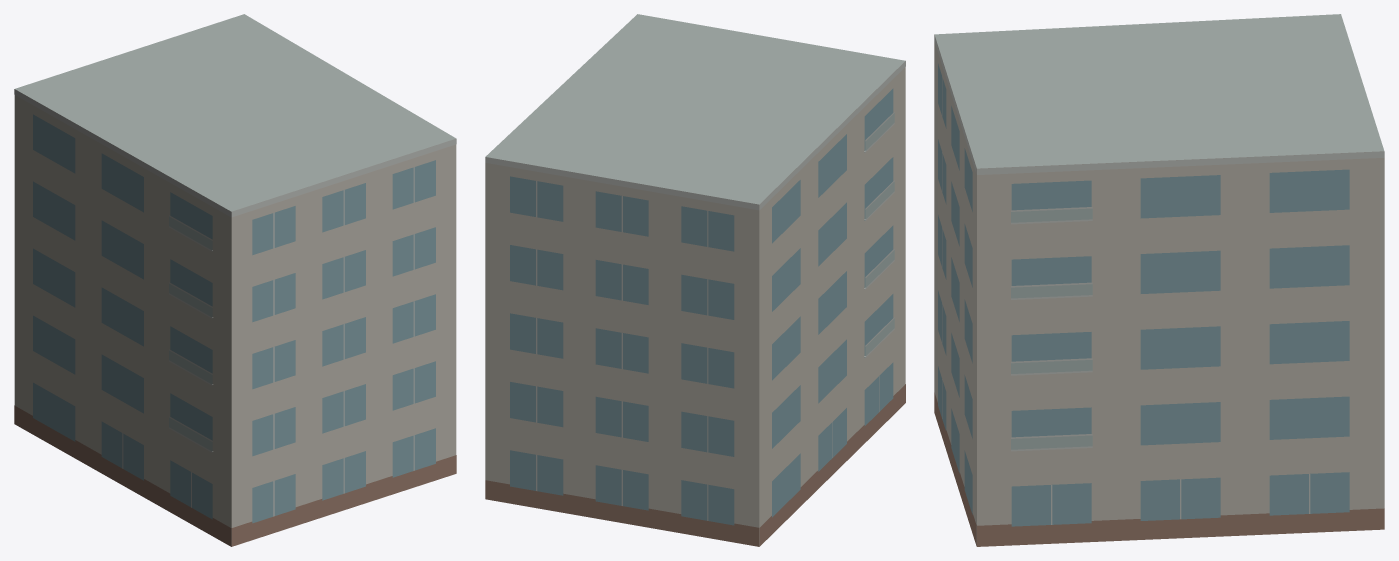
File: survey-upis-32708425.glb
3 views of the same model, side by side, from view 1: azimuth 30°, elevation 25°; view 2: azimuth 150°, elevation 25°; view 3: azimuth 270°, elevation 25° (orthographic). The views are drawn at different scales.
Visible parts, largest first — view 1: survey-upis-32708425.tmp; view 2: survey-upis-32708425.tmp; view 3: survey-upis-32708425.tmp.
Boxes of the visible parts, x1,y1,x2,y2 form: survey-upis-32708425.tmp: (14,14,456,546); survey-upis-32708425.tmp: (485,14,905,546); survey-upis-32708425.tmp: (934,14,1384,546).
Bounding box in the file's own units: 12.37 × 14.1 × 15.21.
